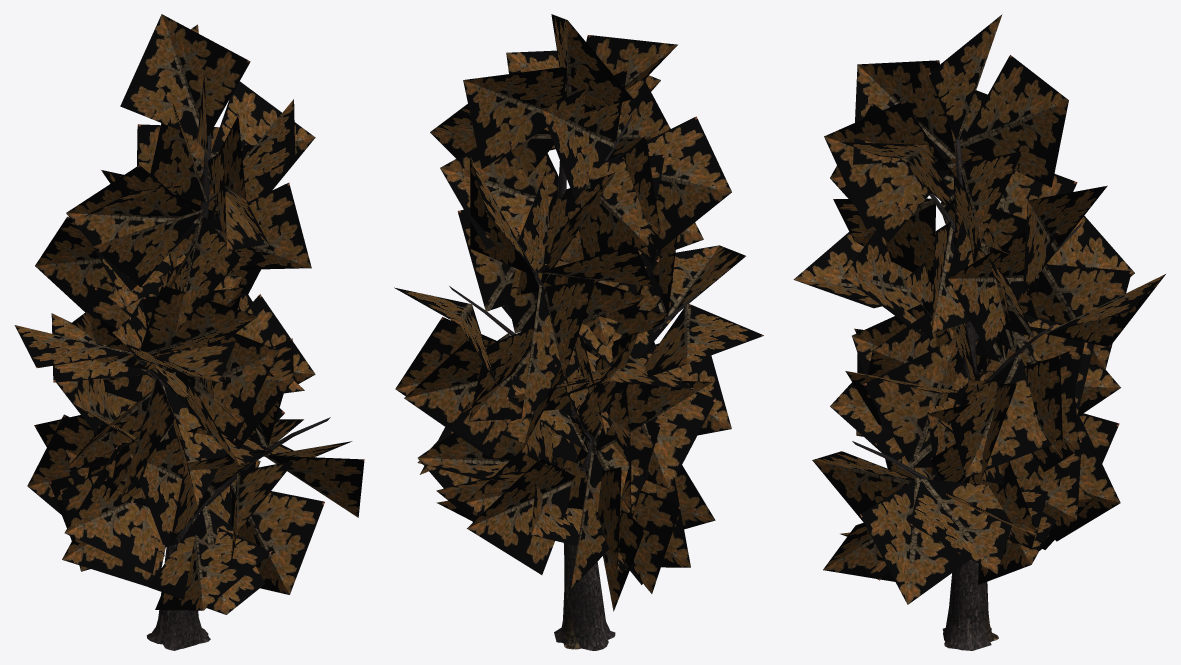
The model's file is harvestable_tree.glb.
3 renders of one model, left to right at view 1: azimuth 30°, elevation 25°; view 2: azimuth 150°, elevation 25°; view 3: azimuth 270°, elevation 25°, orthographic. The views are drawn at different scales.
Visible parts, largest first — view 1: tree_6; view 2: tree_6; view 3: tree_6.
Part boxes in pixels (x1,y1,x2,y2): tree_6: (14,14,364,650); tree_6: (394,14,763,650); tree_6: (793,14,1165,650).
Bounding box in the file's own units: 6.4 × 12.12 × 6.58.
4 materials, 4 textured.
